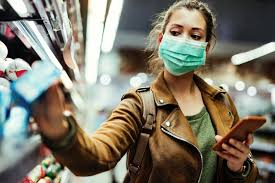with_mask: (156, 12, 209, 80)
